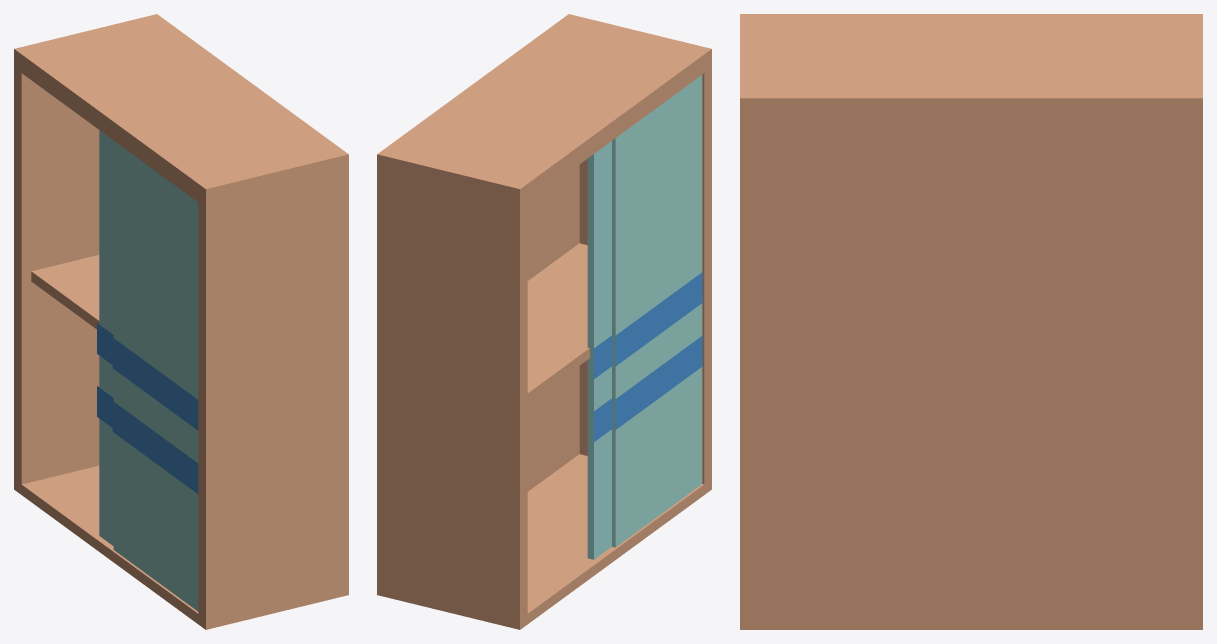
3 renders of one model, left to right at view 1: azimuth 30°, elevation 25°; view 2: azimuth 150°, elevation 25°; view 3: azimuth 270°, elevation 25°, orthographic. The views are drawn at different scales.
Visible parts, largest first — view 1: Cube, Plane.003, Cube.001; view 2: Cube, Plane.003, Cube.001; view 3: Cube.
Part boxes in pixels (x1,y1,x2,y2): Cube: (14, 14, 348, 629); Plane.003: (112, 141, 198, 611); Cube.001: (97, 130, 113, 545); Cube: (377, 14, 711, 629); Plane.003: (612, 75, 702, 547); Cube.001: (587, 141, 612, 559); Cube: (740, 14, 1202, 629).
Bounding box in the file's own units: 813 × 2395 × 1888.
